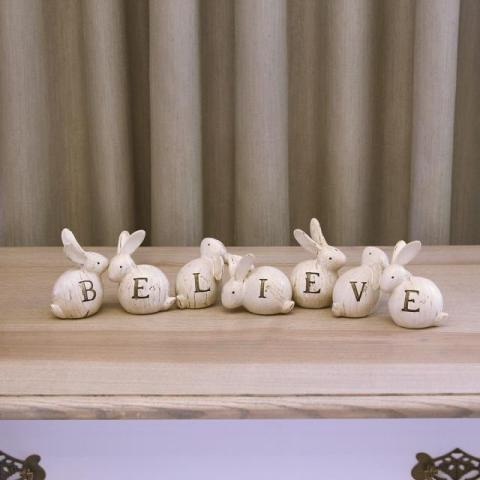small_animal: (372, 237, 448, 330), (282, 218, 348, 312), (108, 228, 176, 318), (45, 228, 107, 320), (324, 245, 392, 321), (218, 253, 294, 317), (174, 229, 227, 312)
